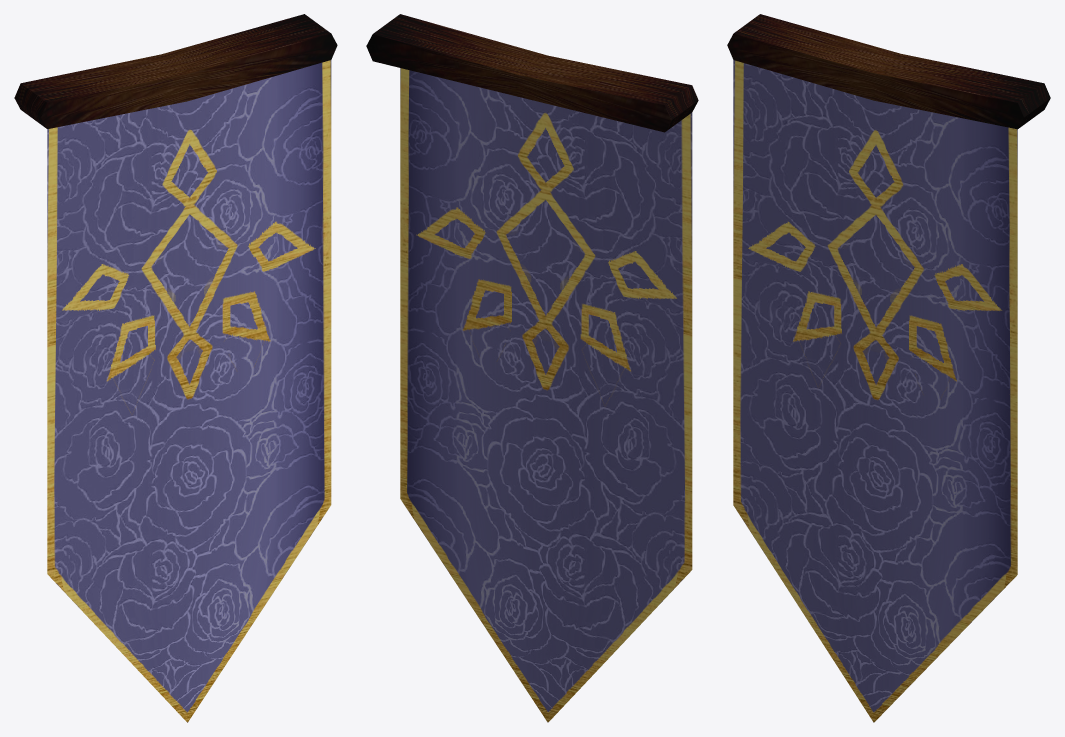
Rendered from Banderin_academia.fbx.
3 views of the same model, side by side, from view 1: azimuth 30°, elevation 25°; view 2: azimuth 150°, elevation 25°; view 3: azimuth 330°, elevation 25° (orthographic). The views are drawn at different scales.
Parts seen in each view (by area): view 1: Cube.031; view 2: Cube.031; view 3: Cube.031.
Boxes of the visible parts, x1=… form: Cube.031: x1=14, y1=14, x2=337, y2=722; Cube.031: x1=366, y1=14, x2=698, y2=722; Cube.031: x1=727, y1=14, x2=1050, y2=722.
Size of the model in its own units: 63.99 by 135 by 9.98.
